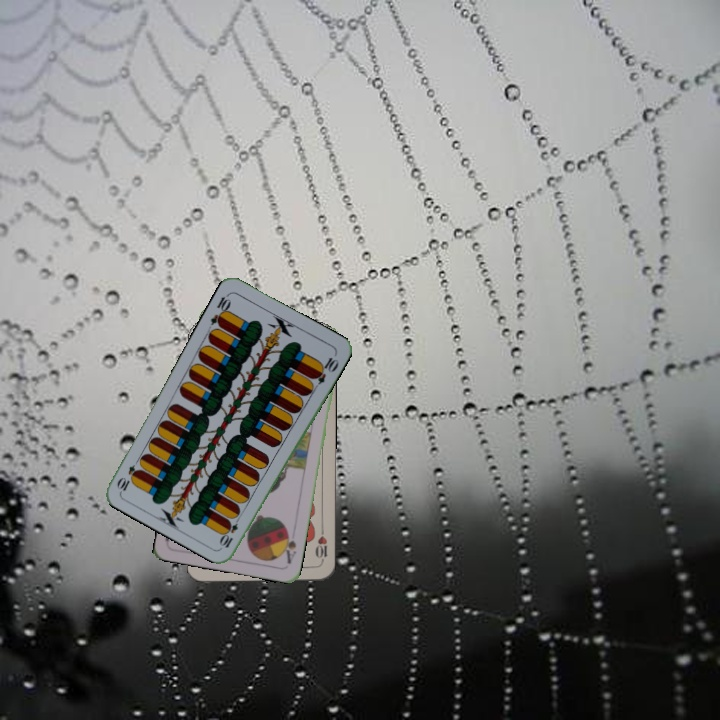E10: (206, 290, 234, 329), (217, 511, 243, 550)
H10: (311, 525, 330, 566)
SA: (279, 526, 299, 566)
